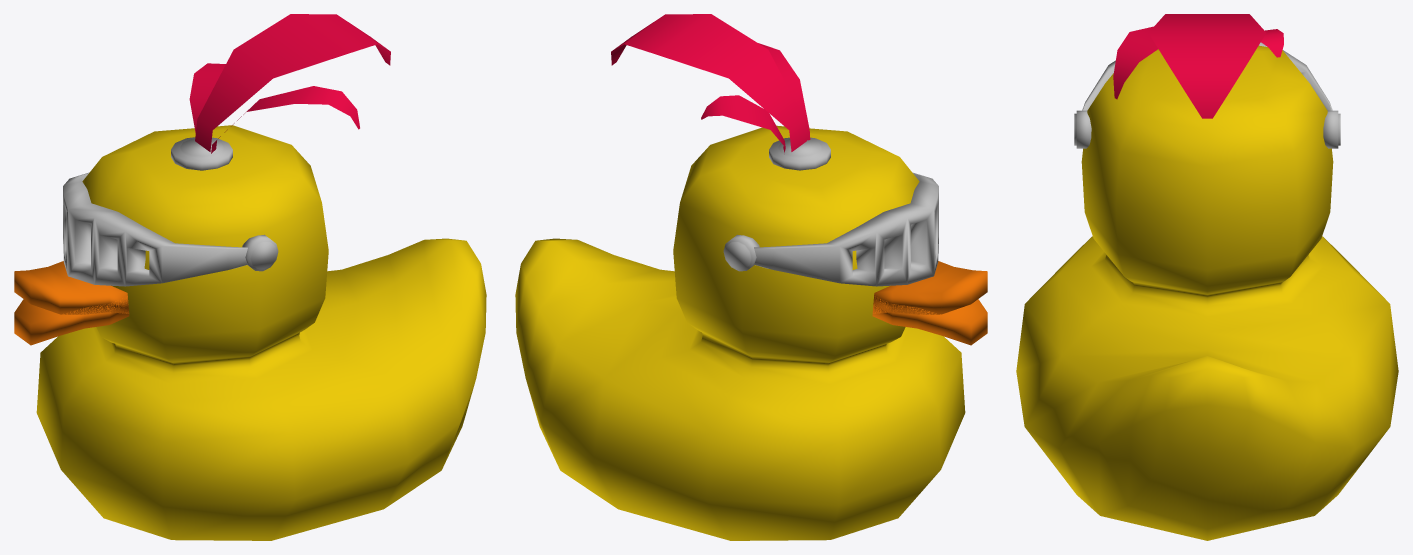
The model's file is rubberduck2.fbx.
3 renders of one model, left to right at view 1: azimuth 30°, elevation 25°; view 2: azimuth 150°, elevation 25°; view 3: azimuth 270°, elevation 25°, orthographic. The views are drawn at different scales.
Visible parts, largest first — view 1: Body, Visor, Feather1, Bill, Feather3, Helm, Feather2; view 2: Body, Visor, Feather1, Bill, Helm, Feather2, Feather3; view 3: Body, Feather1, Visor, Feather3.
Part boxes in pixels (box(x1,y1,x2,y2)): Body: box(36, 125, 486, 540); Visor: box(63, 172, 278, 286); Feather1: box(195, 14, 390, 151); Bill: box(14, 261, 129, 345); Feather3: box(211, 86, 359, 153); Helm: box(171, 137, 232, 170); Feather2: box(189, 63, 225, 132); Body: box(515, 125, 965, 540); Visor: box(723, 172, 938, 286); Feather1: box(611, 14, 806, 151); Bill: box(872, 261, 987, 345); Helm: box(769, 137, 830, 170); Feather2: box(701, 95, 785, 152); Feather3: box(758, 43, 810, 140); Body: box(1016, 45, 1398, 540); Feather1: box(1148, 14, 1266, 118); Visor: box(1074, 42, 1340, 148); Feather3: box(1113, 26, 1157, 99).
Size of the model in its own units: 1680 by 1630 by 1161.
